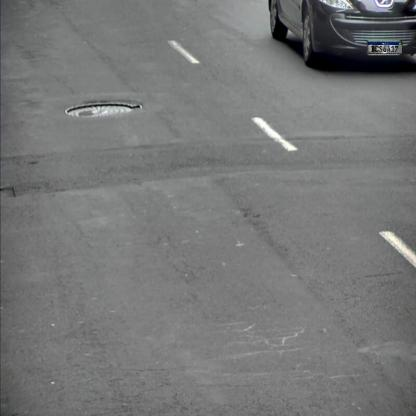PlacaM: (368, 42, 402, 54)
